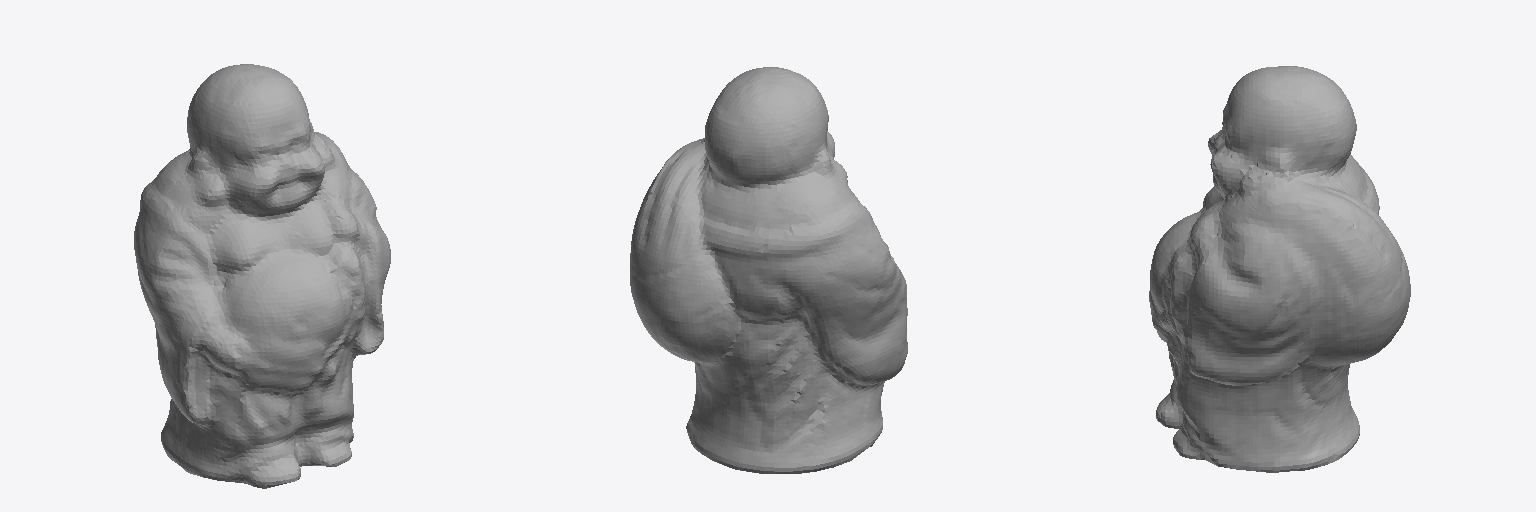
The model's file is Buddha.obj.
3 renders of one model, left to right at view 1: azimuth 30°, elevation 25°; view 2: azimuth 150°, elevation 25°; view 3: azimuth 270°, elevation 25°, orthographic.
Bounding box in the file's own units: 150 × 231 × 150.